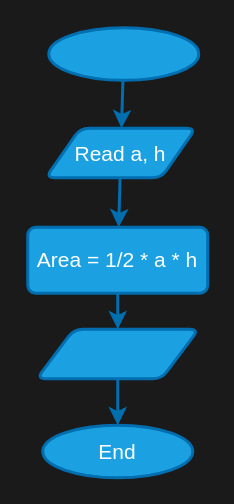
Image size: 234x504. Some labels were removed from this diagram. The centre of each missing label's shape, as x and y in pixels:
Print Area: [117,353]
start: [123,53]
